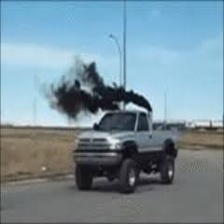smoke: (40, 66, 164, 120)
